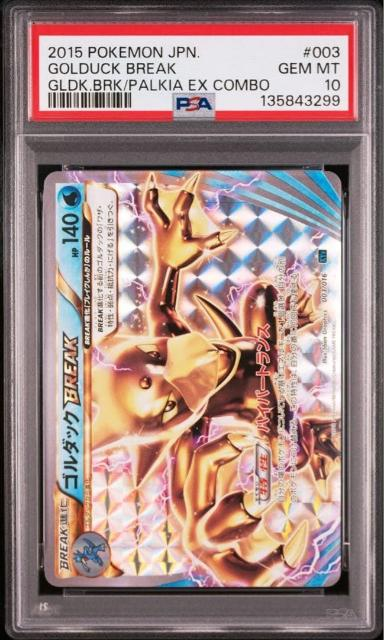Card: (40, 165, 348, 591)
Name: (55, 323, 84, 500)
